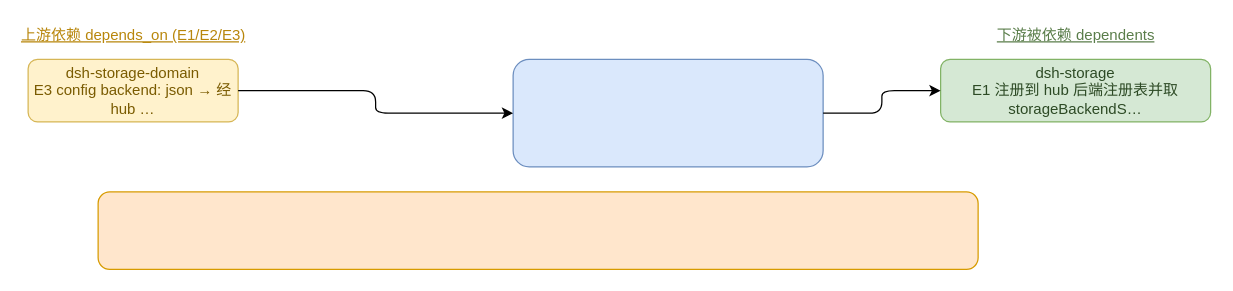
The diagram is 1233 pixels wide and 291 high, and some of its shapes have lost their labels. The box of each missing label's shape, as (x1, y1, x2, y2) in pixels:
dsh-storage-json @deepseek-ai/dsh-storage-json: (512, 58, 823, 167)
provides 关键项 • storage.backend.json 后端（kv facet） • storage.backend.json 服务键: (97, 191, 978, 269)
